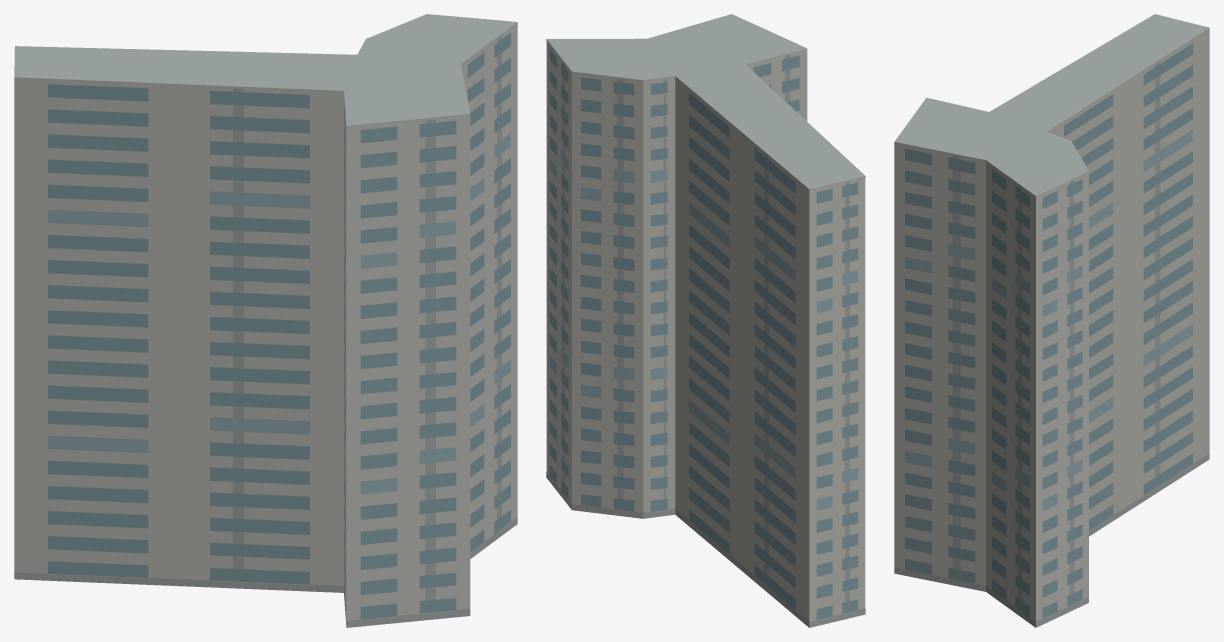
The model's file is residential-0c07f68f-3e6d-488c-9ea0-eac1fd09c26a.glb.
3 views of the same model, side by side, from view 1: azimuth 30°, elevation 25°; view 2: azimuth 150°, elevation 25°; view 3: azimuth 270°, elevation 25° (orthographic). The views are drawn at different scales.
Parts seen in each view (by area): view 1: residential-0c07f68f-3e6d-488c-9ea0-eac1fd09c26a.tmp; view 2: residential-0c07f68f-3e6d-488c-9ea0-eac1fd09c26a.tmp; view 3: residential-0c07f68f-3e6d-488c-9ea0-eac1fd09c26a.tmp.
Boxes of the visible parts, x1,y1,x2,y2 form: residential-0c07f68f-3e6d-488c-9ea0-eac1fd09c26a.tmp: (14,14,517,627); residential-0c07f68f-3e6d-488c-9ea0-eac1fd09c26a.tmp: (546,14,865,627); residential-0c07f68f-3e6d-488c-9ea0-eac1fd09c26a.tmp: (894,14,1209,627).
Bounding box in the file's own units: 55.22 × 61 × 40.39.
